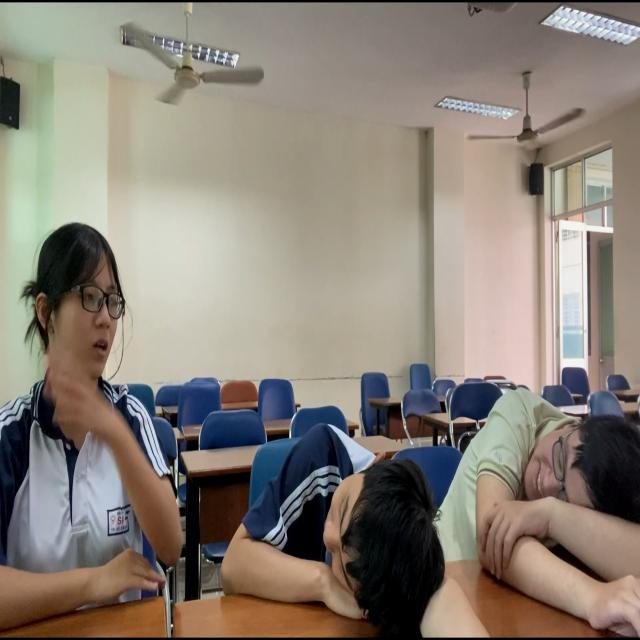sleep: (202, 414, 496, 640), (438, 378, 640, 640)
